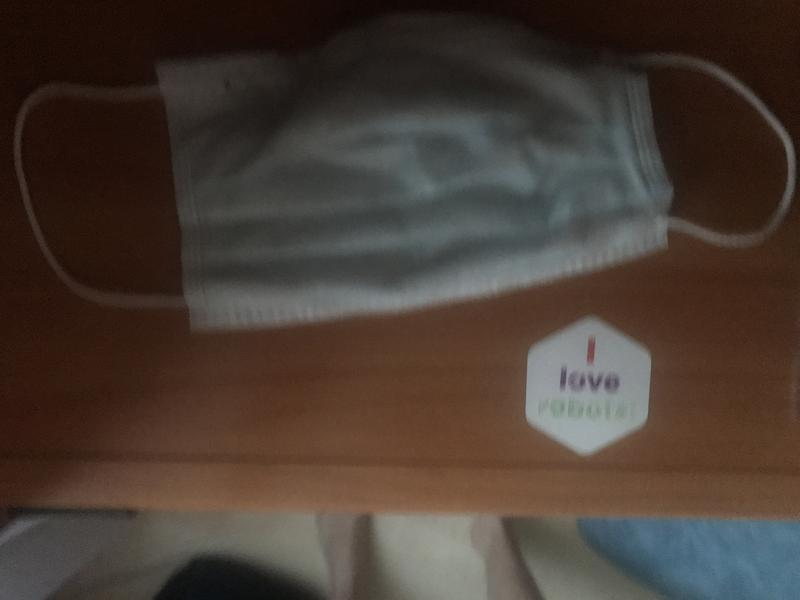medical_mask: (14, 18, 796, 337)
